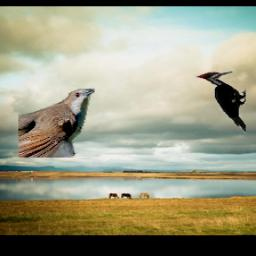Cuckoo: (19, 90, 96, 158)
Woodpecker: (195, 71, 247, 133)
